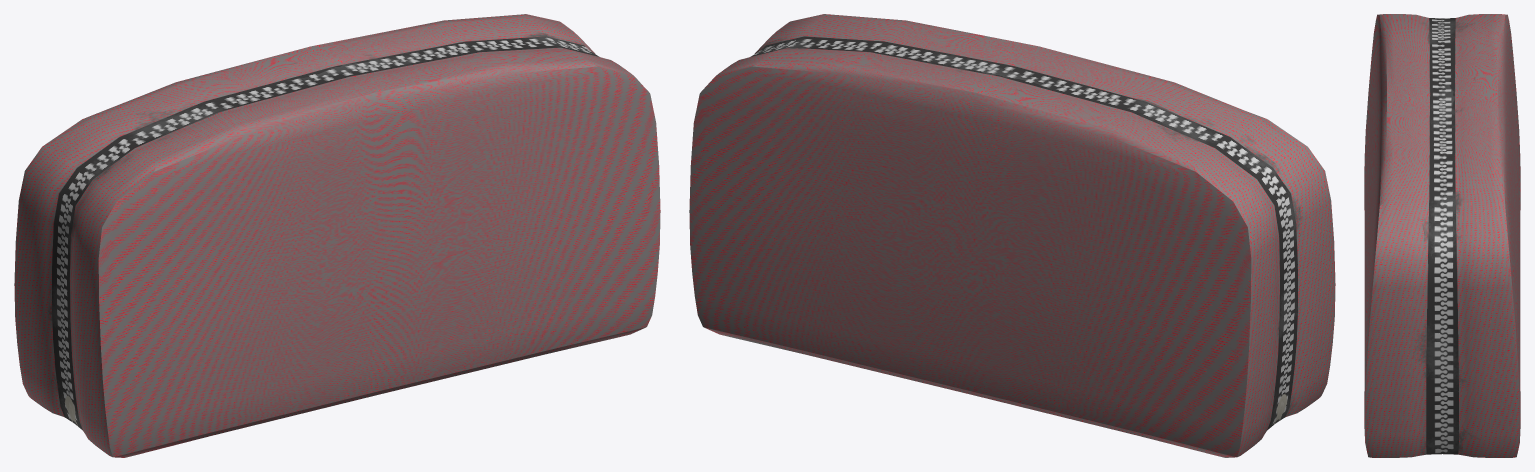
File: purse.fbx
3 views of the same model, side by side, from view 1: azimuth 30°, elevation 25°; view 2: azimuth 150°, elevation 25°; view 3: azimuth 270°, elevation 25° (orthographic). The views are drawn at different scales.
Parts seen in each view (by area): view 1: Purse; view 2: Purse; view 3: Purse.
Part boxes in pixels (box(x1,y1,x2,y2)): Purse: box(14, 14, 660, 457); Purse: box(689, 14, 1335, 457); Purse: box(1364, 14, 1520, 457).
Size of the model in its own units: 143 by 72.77 by 39.34.
